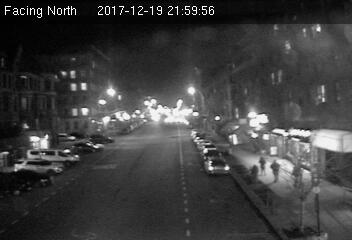car: (202, 157, 232, 176)
pedestrian: (270, 158, 281, 185), (257, 155, 268, 176)
